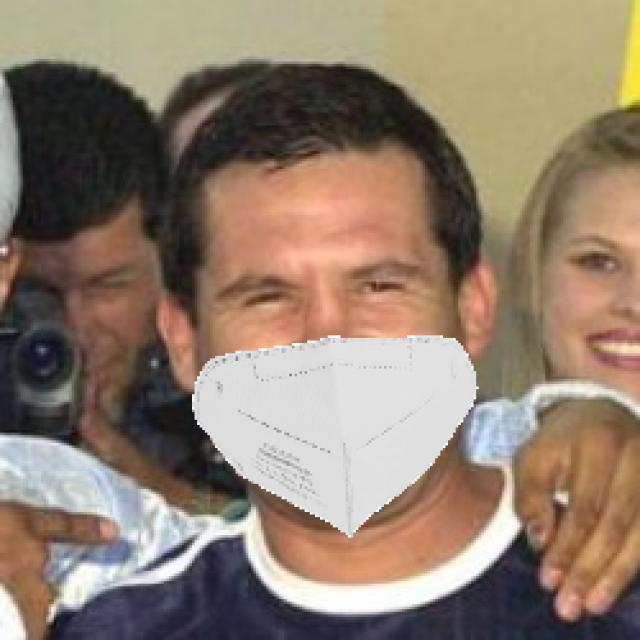kn95: (190, 126, 453, 536)
